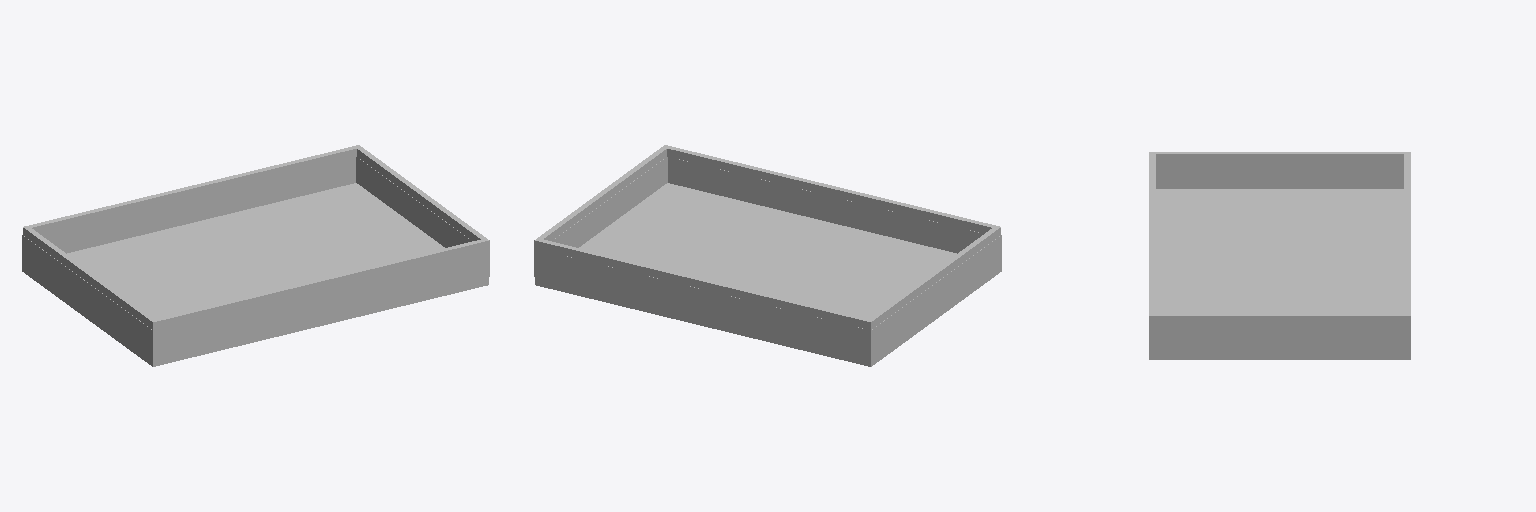
The model's file is zemin.obj.
3 renders of one model, left to right at view 1: azimuth 30°, elevation 25°; view 2: azimuth 150°, elevation 25°; view 3: azimuth 270°, elevation 25°, orthographic.
Parts seen in each view (by area): view 1: Ground; view 2: Ground; view 3: Ground.
Part boxes in pixels (left/top/right/bottom): Ground: left=22, top=145, right=489, bottom=366; Ground: left=534, top=145, right=1001, bottom=366; Ground: left=1149, top=152, right=1410, bottom=359.
Size of the model in its own units: 11.93 by 1.51 by 8.01.